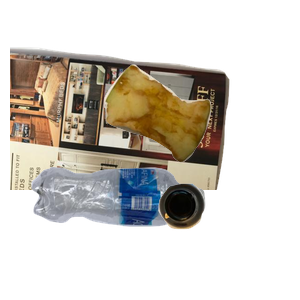glass: (156, 181, 300, 300)
paper: (10, 44, 232, 224)
plastic: (29, 165, 227, 300)
trash: (101, 62, 300, 217)
